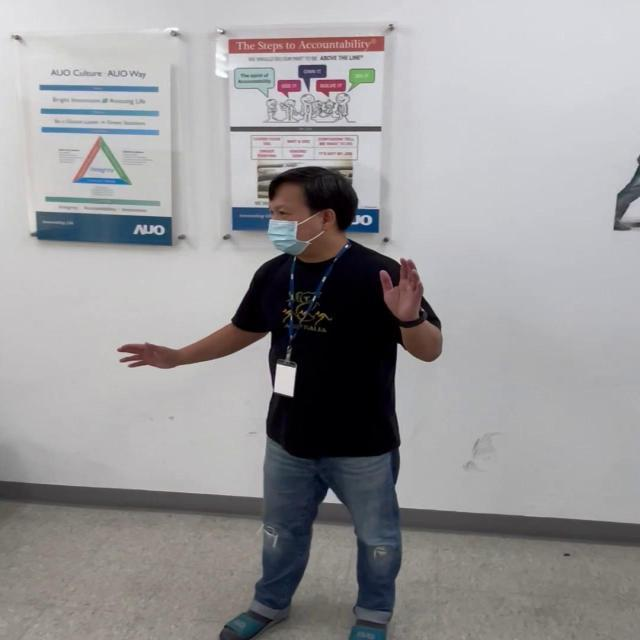bare_hand: (377, 252, 425, 324), (115, 336, 177, 374)
